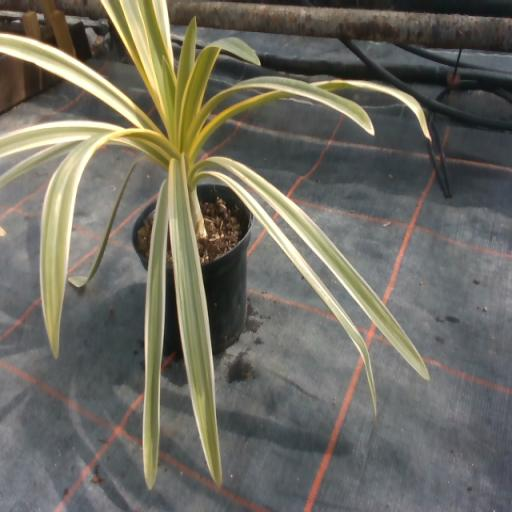Agapanthus-praecox: (193, 157, 429, 378), (199, 170, 375, 413), (39, 129, 180, 356), (168, 157, 221, 482), (0, 33, 161, 133), (187, 77, 374, 141), (70, 157, 144, 288), (181, 38, 260, 148), (143, 180, 168, 487), (191, 92, 290, 160), (313, 81, 430, 138), (121, 0, 162, 107), (0, 121, 120, 156), (0, 141, 79, 188), (175, 19, 196, 121), (138, 0, 168, 61), (108, 135, 170, 164), (162, 60, 174, 134)
